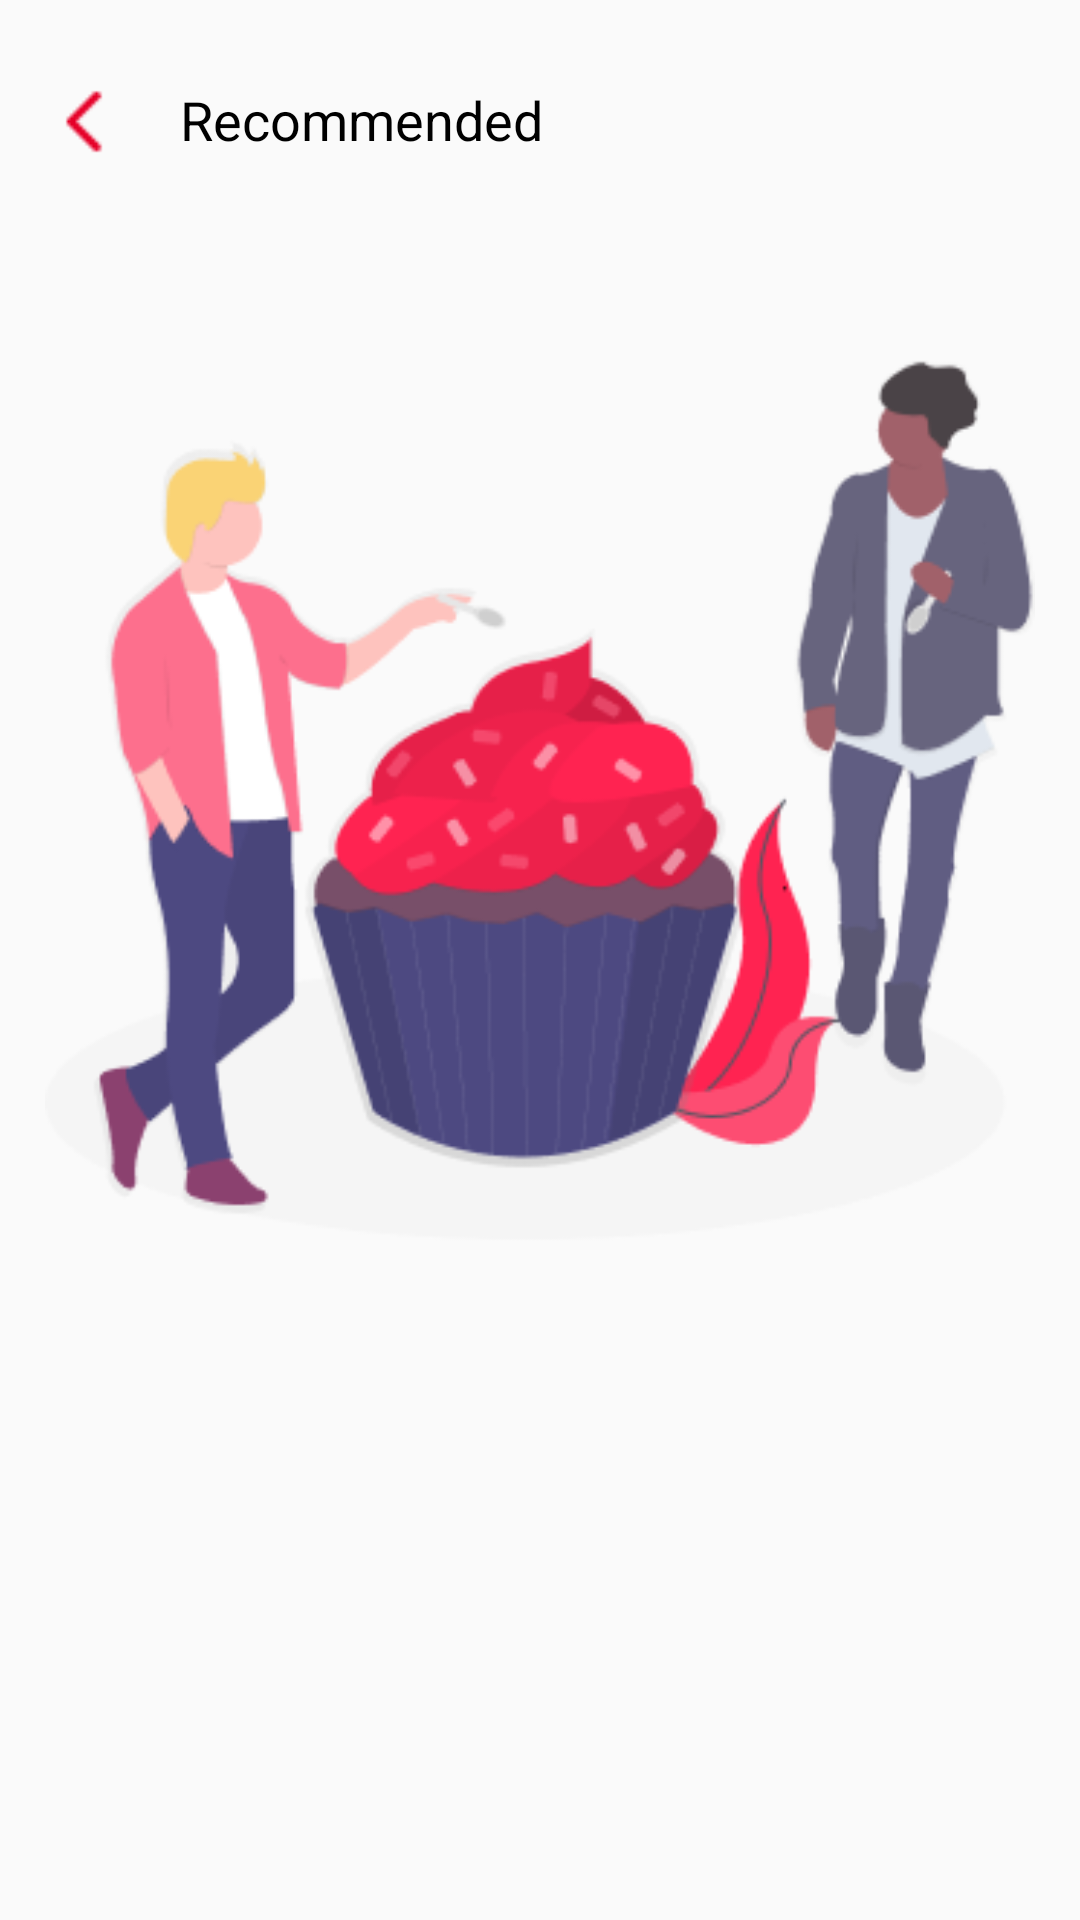

Icon click points for this 1080 × 1920 phone screenshot, format (x=x, y=y):
back: (x=84, y=121)
